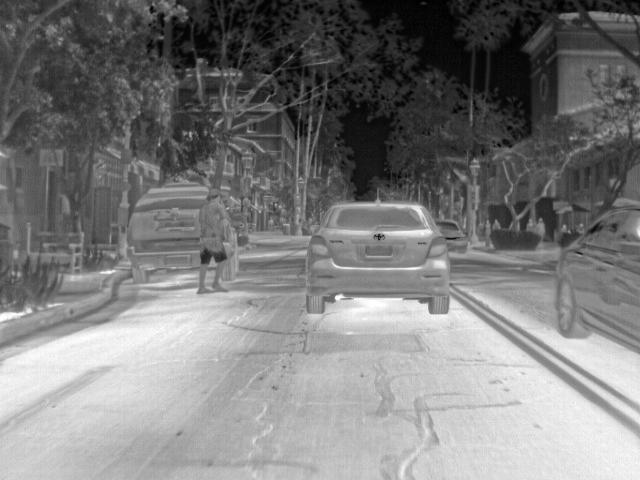car: (303, 200, 451, 314), (554, 204, 640, 356), (127, 184, 239, 282), (435, 219, 471, 256)
person: (196, 188, 231, 294), (536, 216, 546, 244), (484, 218, 493, 248), (560, 222, 573, 233), (526, 218, 536, 232), (492, 218, 503, 230)
